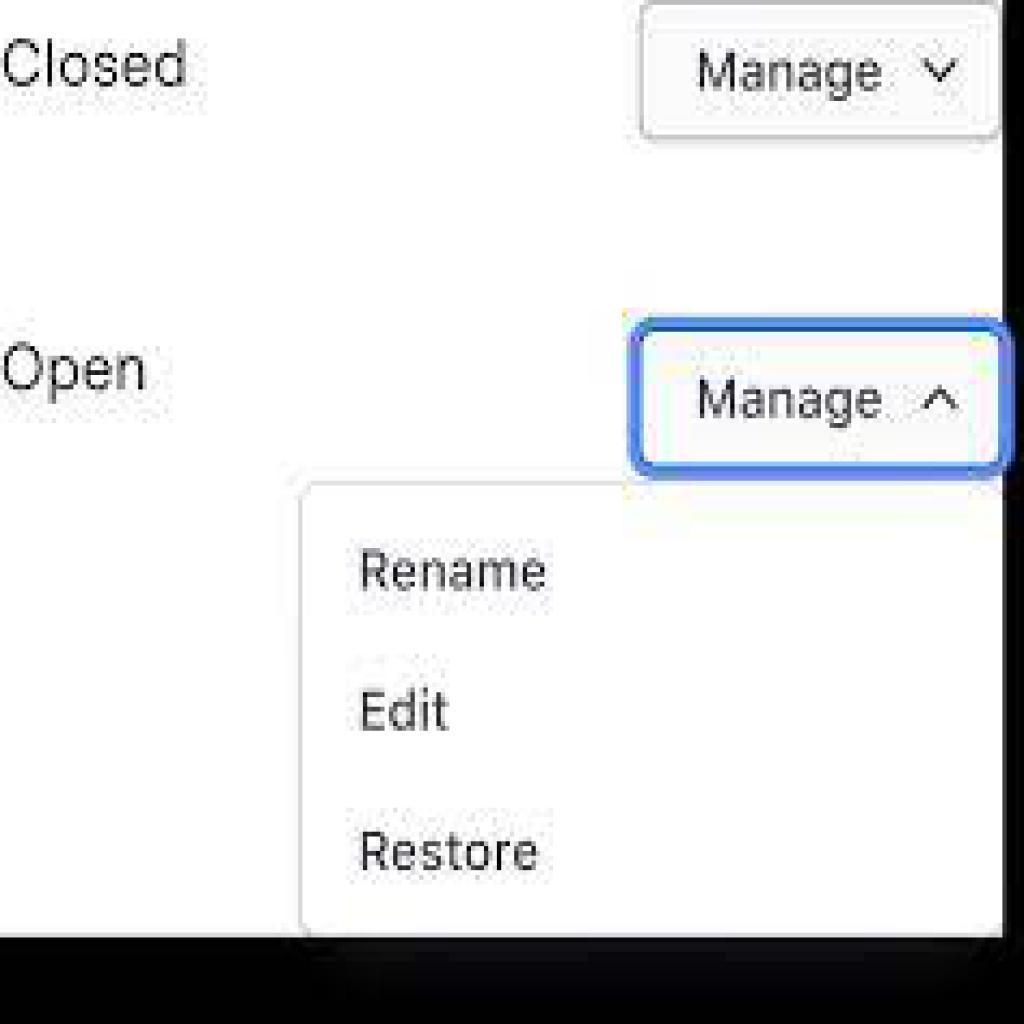dropdown: (636, 5, 1008, 137), (636, 332, 1000, 466)
